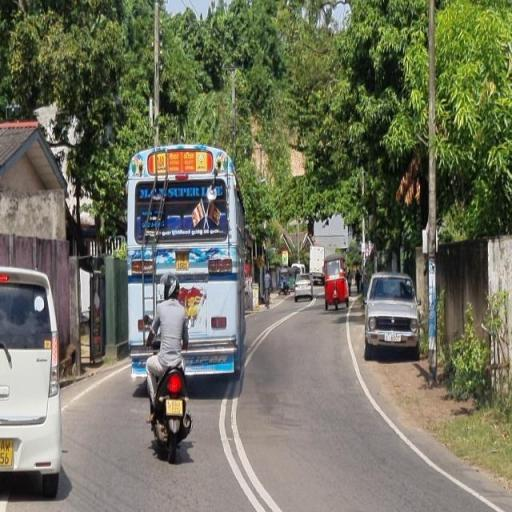double_white_line: (341, 308, 504, 510), (217, 301, 280, 512)
